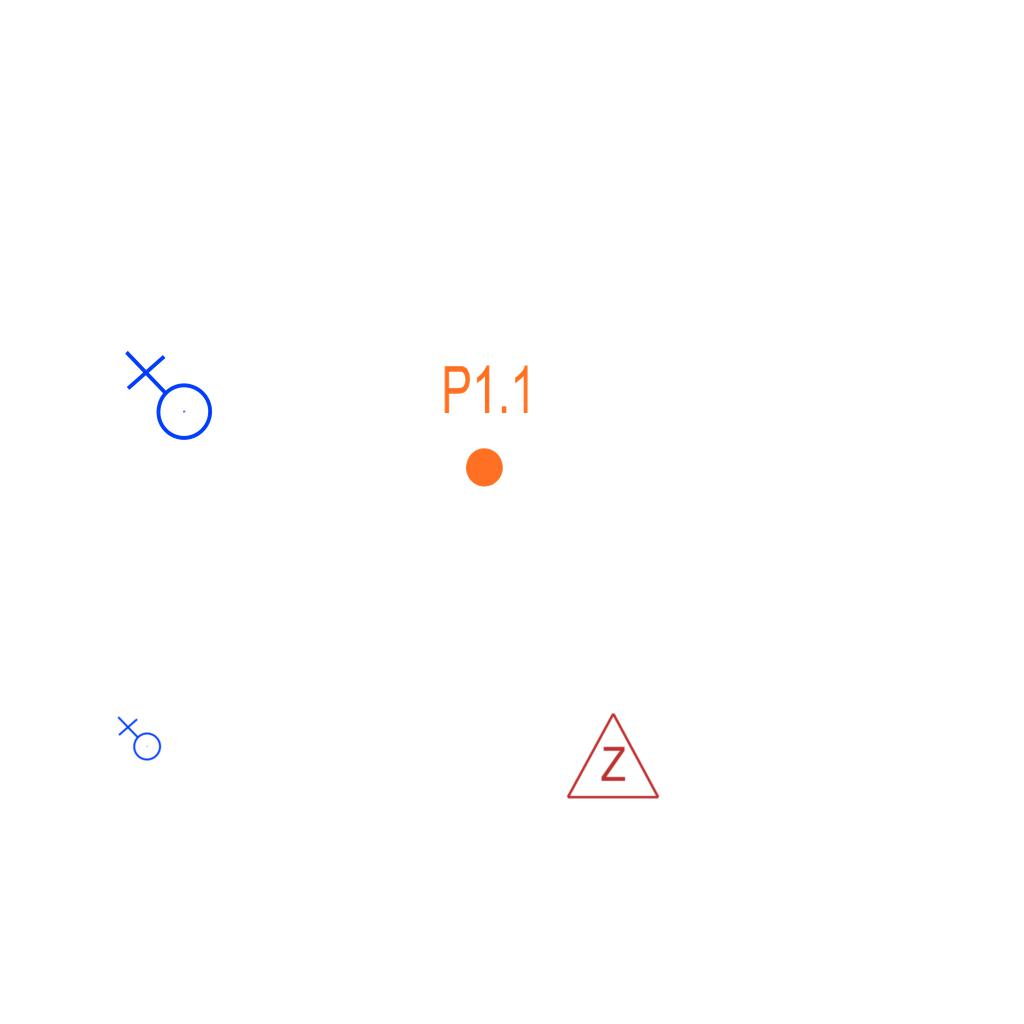Downlight_LED_Einbauleuchten_Flur: (441, 362, 534, 490)
Elektroanschluss_allgemein_230V_Geraeteanschlussdose_230V: (120, 350, 214, 449), (115, 716, 162, 765)
Zimmersignalleuchte: (563, 706, 661, 806)
